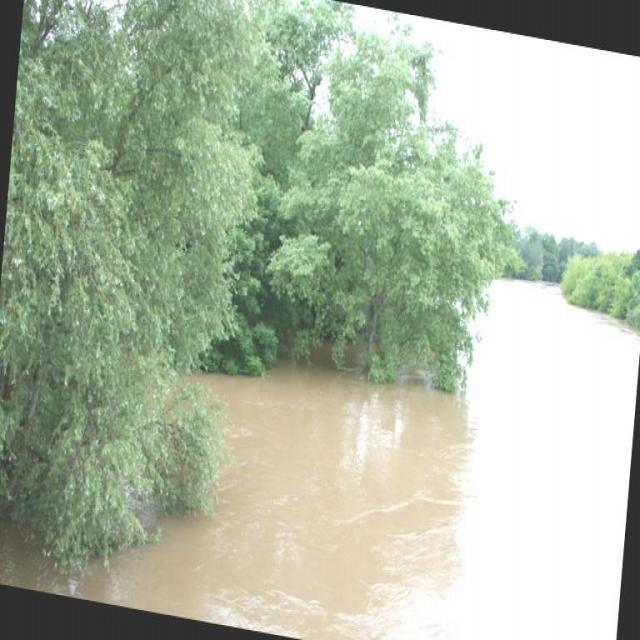flood: (78, 200, 639, 639)
